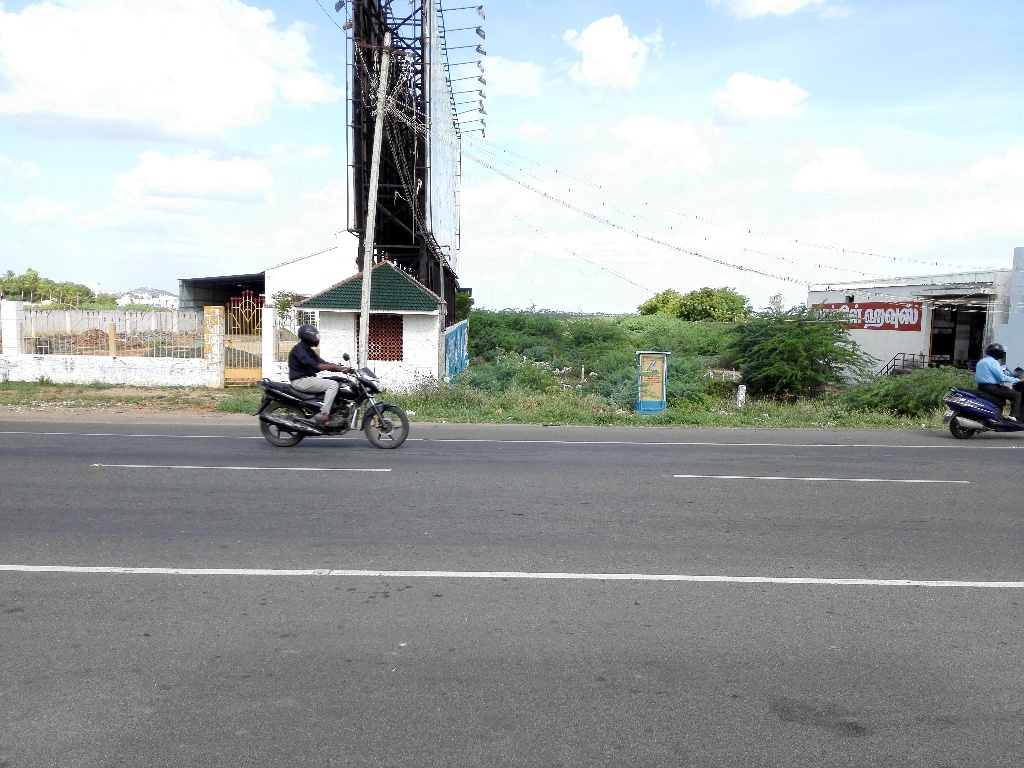biker: (247, 297, 417, 454), (936, 319, 1024, 448)
helmet: (289, 315, 327, 356), (976, 332, 1014, 373)
